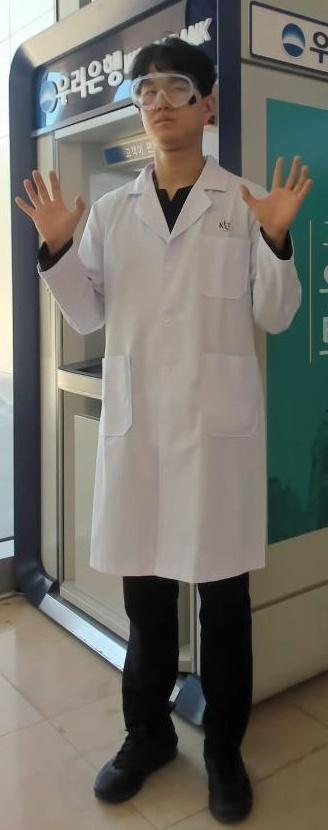lab_coat: (87, 179, 244, 578)
